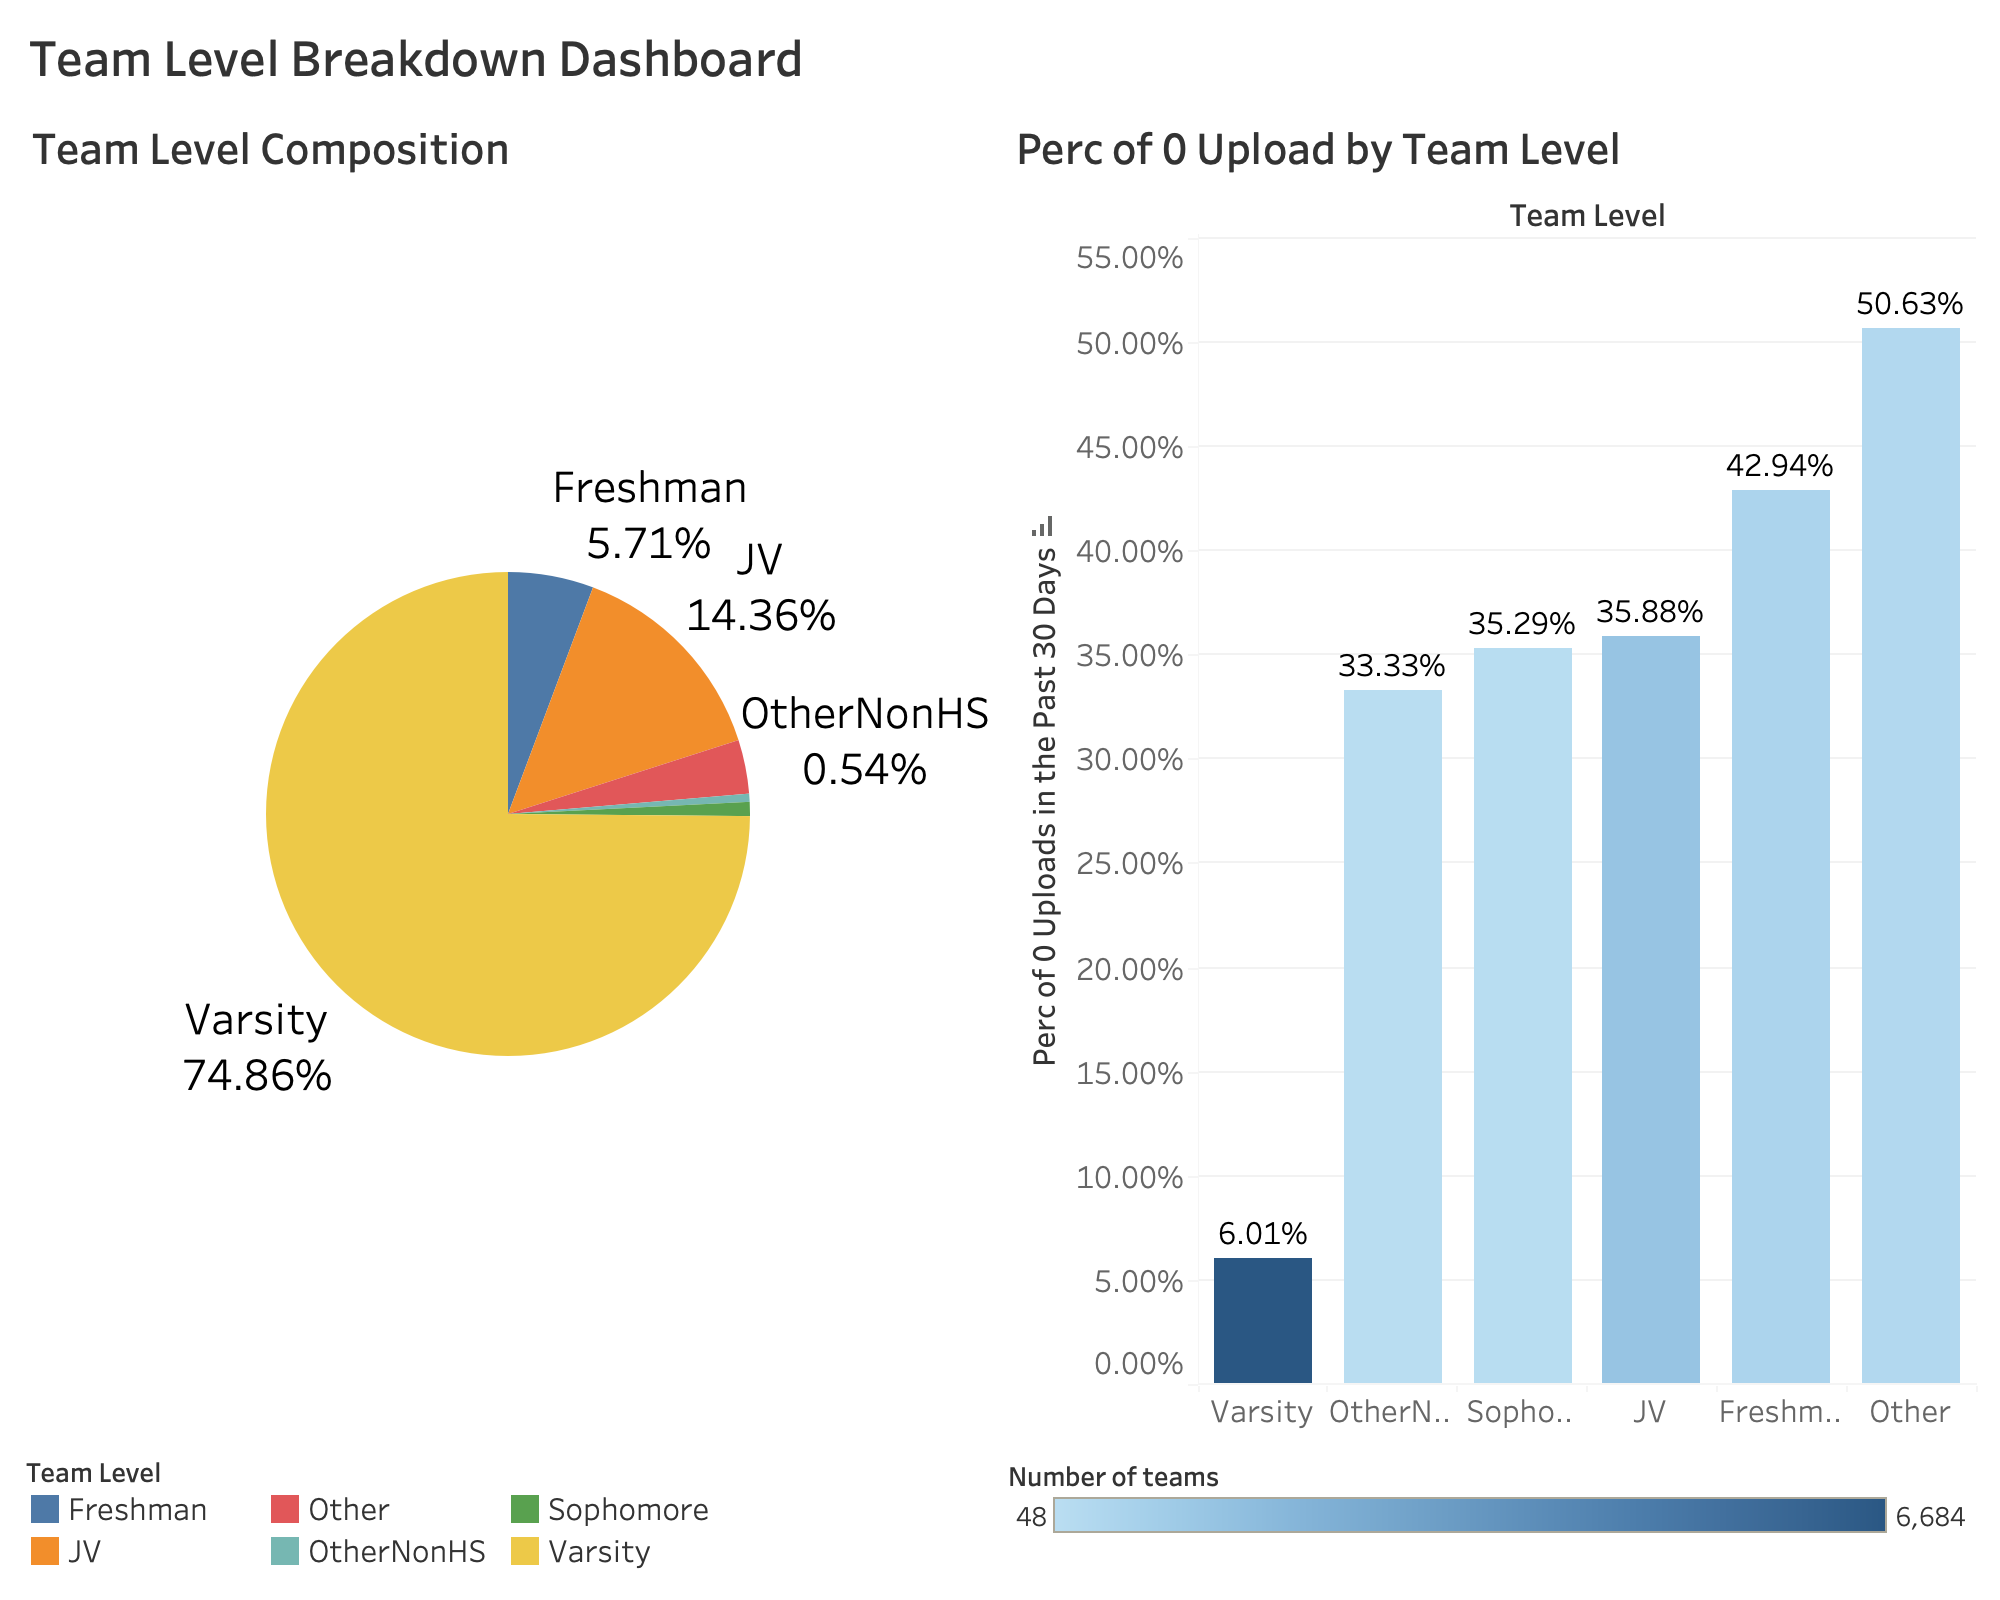

This screenshot's page, from the dashboard's own definition file:
{"tool":"tableau","page":{"name":"Team Level Breakdown Dashboard","canvas":[1000,800],"ordinal":1},"visuals":[{"type":"title","box":[8,8,984,41]},{"type":"worksheet","title":"Team Level Composition","mark":"Pie","box":[8,49,492,671.9]},{"type":"worksheet","title":"Perc of 0 Upload by Team Level","mark":"Bar","rows":["perc_0_upload_30_days"],"cols":["team_level"],"box":[500,49,492,671.9]},{"type":"legend","title":"Team Level Composition","param":"[federated.1oau9i70icv7ta1e8bhih0slormr].[none:team_level:nk]","box":[8,720.9,492,71.1]},{"type":"legend","title":"Perc of 0 Upload by Team Level","param":"[federated.1oau9i70icv7ta1e8bhih0slormr].[sum:num_team:qk]","box":[500,720.9,492,71.1]}]}

Visuals, with their boxes in screenshot pixels (x1, y1, x2, y2), scaled from the page's 1000x800 canvas onto the 2000x1600 screenshot:
title: <region>16, 16, 1984, 98</region>
"Team Level Composition" worksheet (Pie marks): <region>16, 98, 1000, 1442</region>
"Perc of 0 Upload by Team Level" worksheet (Bar marks): <region>1000, 98, 1984, 1442</region>
"Team Level Composition" legend: <region>16, 1442, 1000, 1584</region>
"Perc of 0 Upload by Team Level" legend: <region>1000, 1442, 1984, 1584</region>
